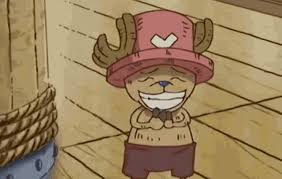chopper: (92, 9, 217, 177)
